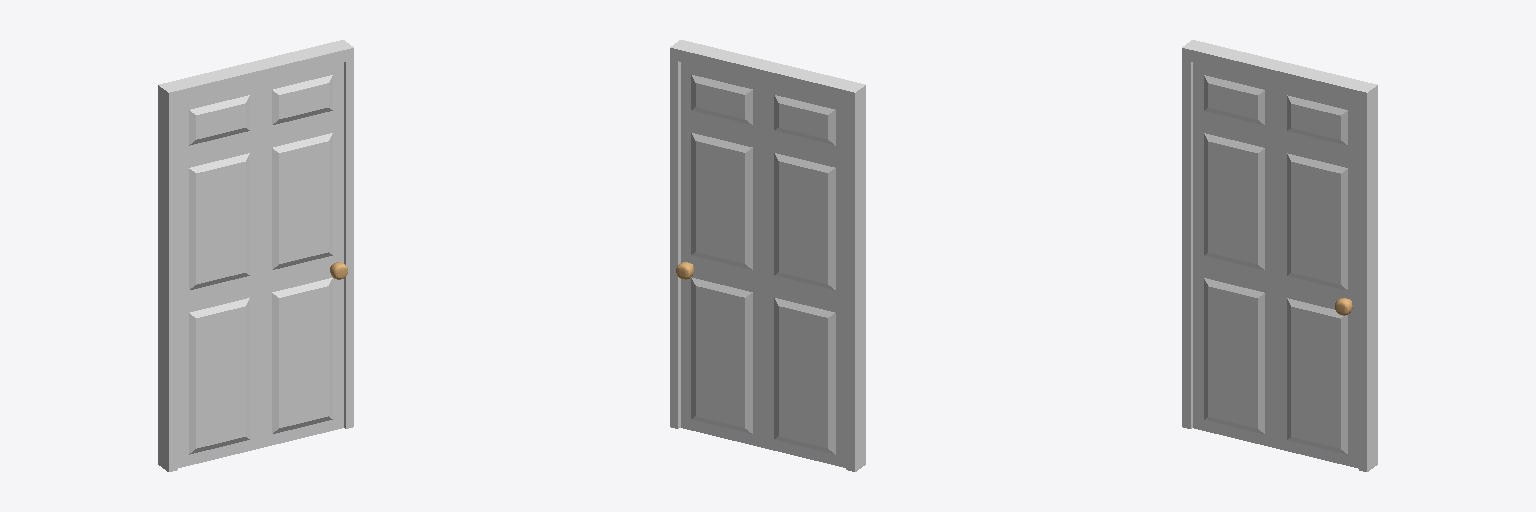
The model's file is door.obj.
The picture shows the model from 3 angles: view 1: azimuth 30°, elevation 25°; view 2: azimuth 150°, elevation 25°; view 3: azimuth 330°, elevation 25°; orthographic projection.
Visible parts, largest first — view 1: door, frame; view 2: door, frame; view 3: door, frame.
Part boxes in pixels (left/top/right/bottom): door: left=178, top=62, right=343, bottom=467; frame: left=158, top=40, right=353, bottom=471; door: left=681, top=62, right=845, bottom=467; frame: left=670, top=40, right=865, bottom=471; door: left=1193, top=62, right=1358, bottom=468; frame: left=1182, top=40, right=1377, bottom=471.
Bounding box in the file's own units: 2.07 × 4.06 × 0.4998.